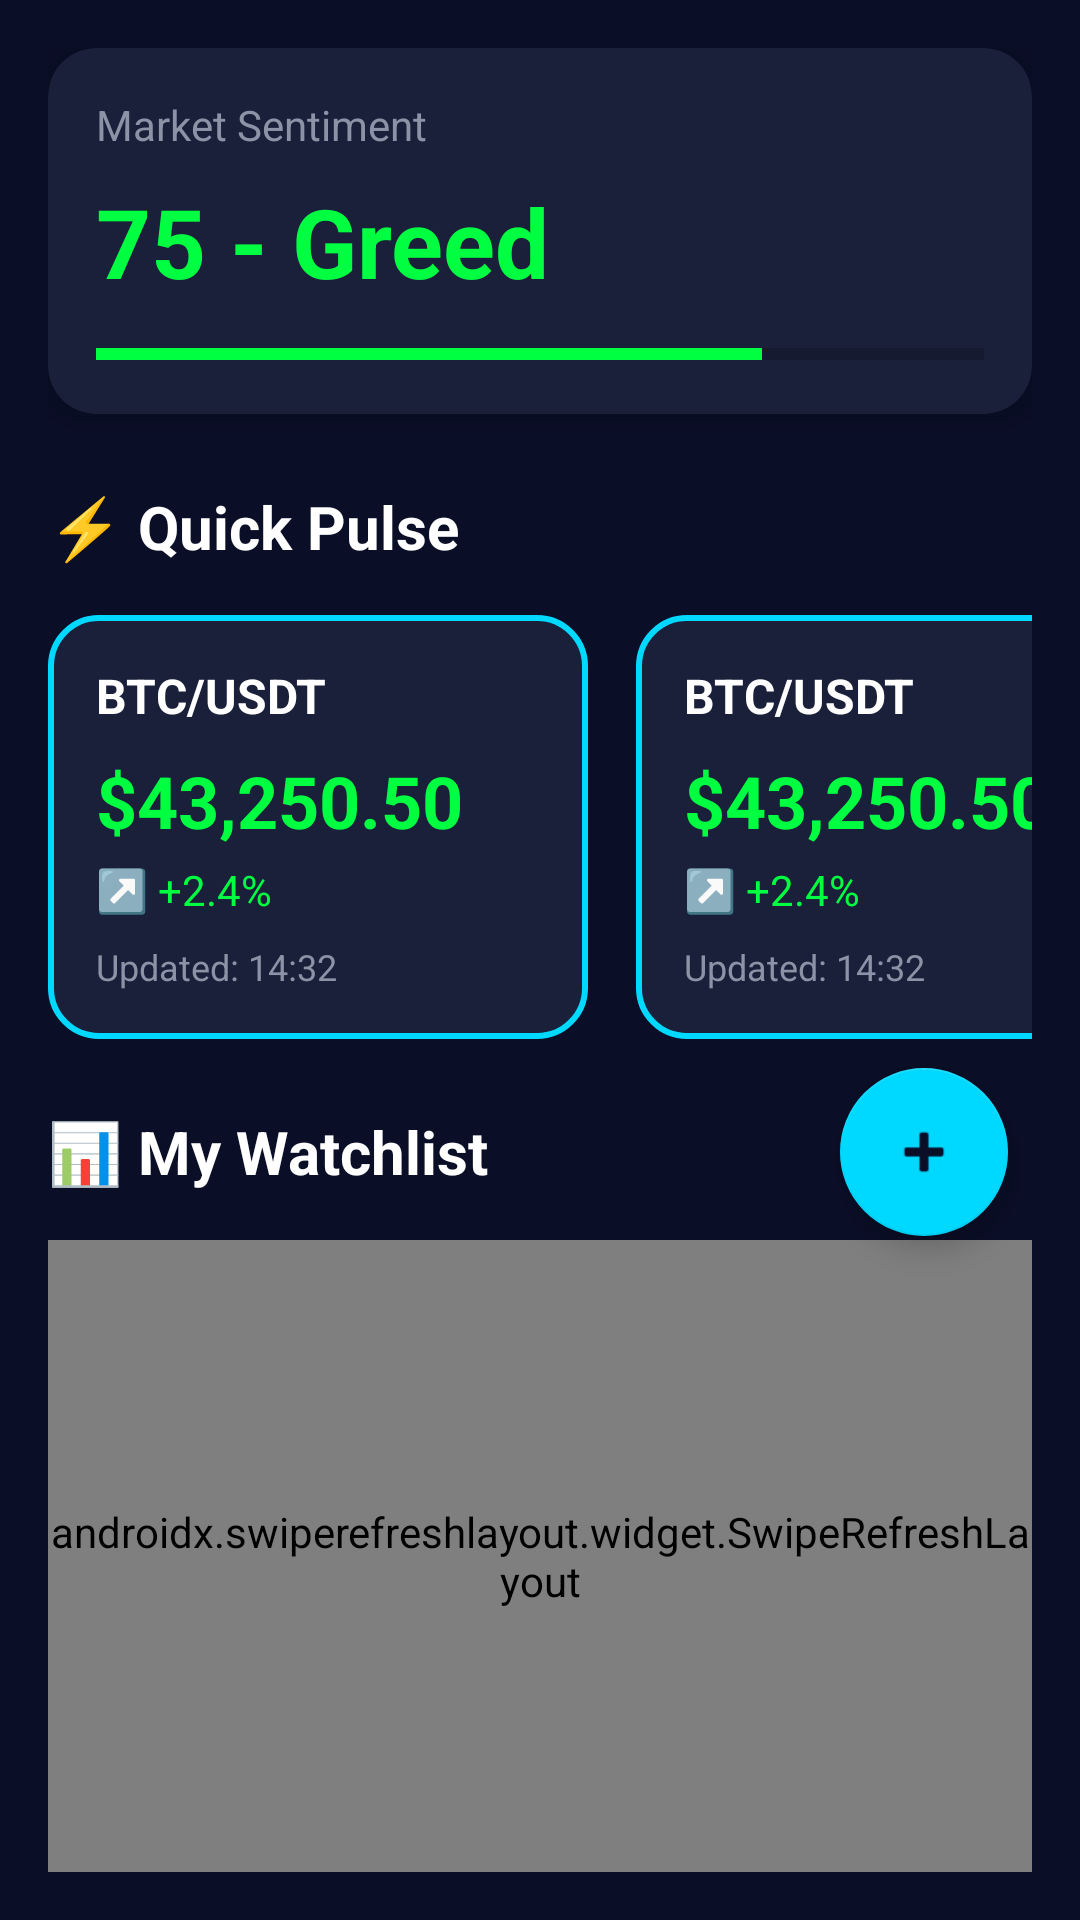

Named icons in this screenshot (1080×1920) and their centers, [x,y]:
add: [924,1152]
